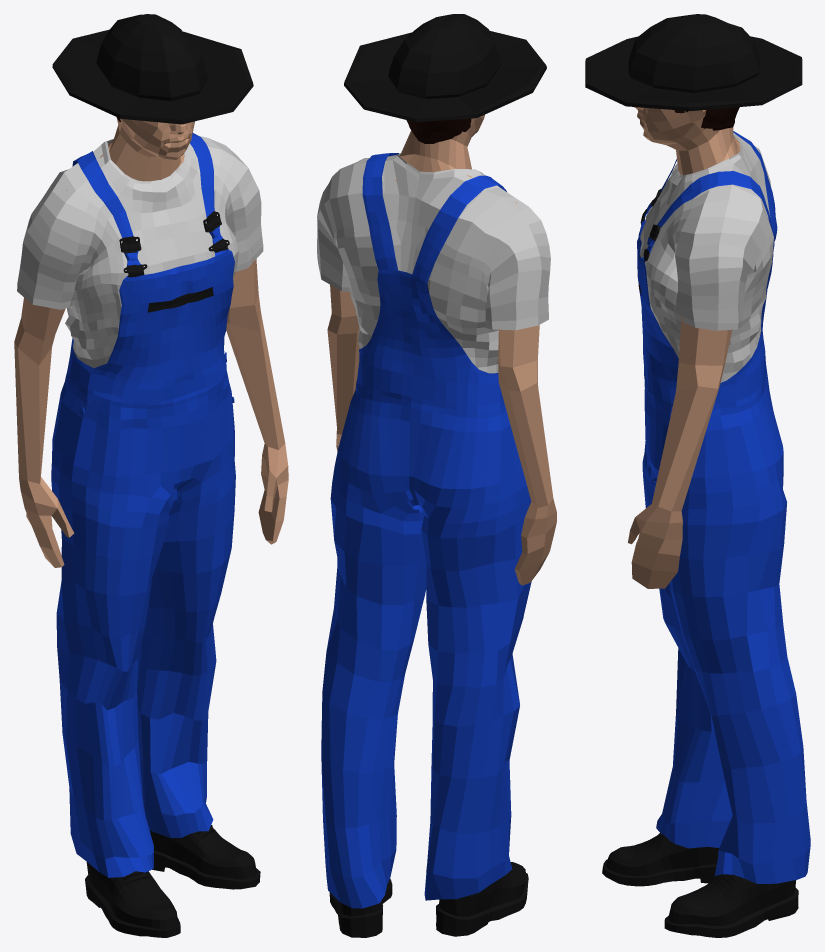
The model's file is hombre.obj.
The picture shows the model from 3 angles, left to right: view 1: azimuth 30°, elevation 25°; view 2: azimuth 150°, elevation 25°; view 3: azimuth 270°, elevation 25°; orthographic projection. The views are drawn at different scales.
Visible parts, largest first — view 1: Hat; view 2: Hat; view 3: Hat.
Boxes of the visible parts, x1,y1,x2,y2 form: Hat: [14, 14, 288, 937]; Hat: [317, 14, 556, 937]; Hat: [585, 14, 810, 937].
Size of the model in its own units: 0.517 by 1.84 by 0.4318.
